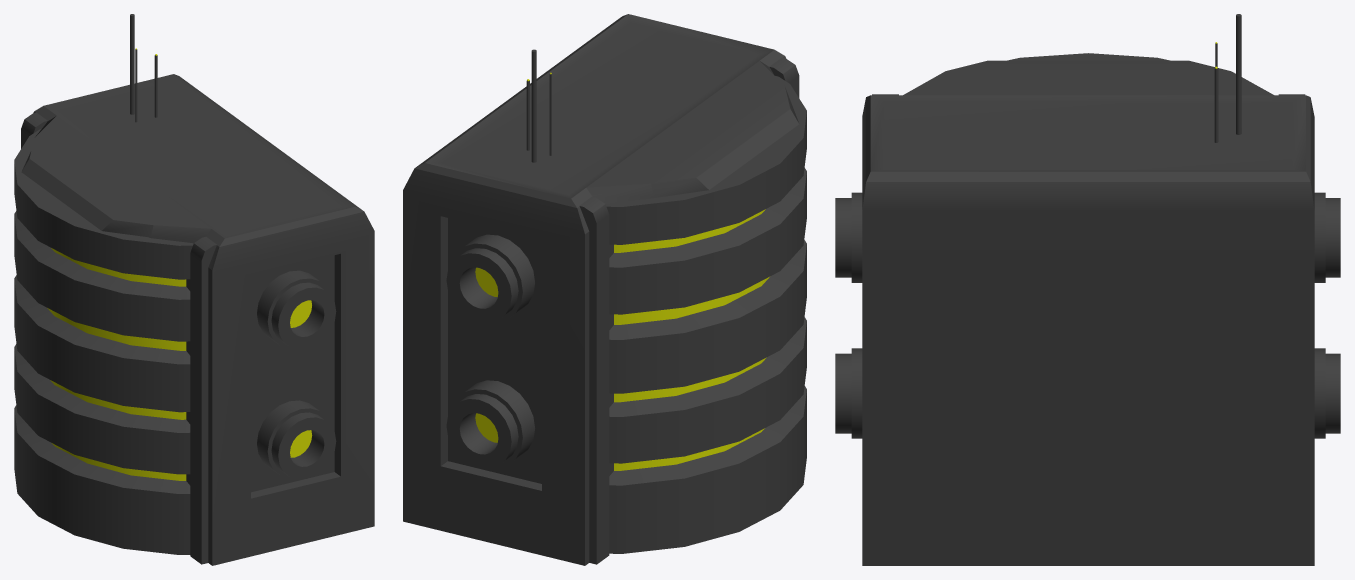
Rendered from Battery.fbx.
The picture shows the model from 3 angles, left to right: view 1: azimuth 30°, elevation 25°; view 2: azimuth 150°, elevation 25°; view 3: azimuth 270°, elevation 25°; orthographic projection. The views are drawn at different scales.
Visible parts, largest first — view 1: pCube1, pCylinder1, pCube2, pPipe1, pPipe3, pPipe4, pPipe2, pCylinder2, pCube3; view 2: pCube1, pCylinder1, pCube3, pPipe3, pPipe1, pPipe2, pPipe4, pCylinder2, pCube2; view 3: pCube1, pPipe3, pPipe1, pPipe4, pPipe2, pCylinder1, pCylinder2.
Boxes of the visible parts, x1,y1,x2,y2 form: pCube1: (21,74,374,565); pCylinder1: (14,129,193,554); pCube2: (190,236,216,564); pPipe1: (271,282,336,349); pPipe3: (271,412,336,479); pPipe4: (257,400,331,478); pPipe2: (257,270,331,348); pCylinder2: (130,14,134,114); pCube3: (21,112,47,148); pCube1: (403,14,799,565); pCylinder1: (605,76,806,553); pCube3: (579,197,609,564); pPipe3: (446,394,518,468); pPipe1: (446,248,518,322); pPipe2: (450,234,534,322); pPipe4: (450,380,535,468); pCylinder2: (531,49,536,162); pCube2: (769,57,799,97); pCube1: (862,60,1314,565); pPipe3: (835,353,1340,433); pPipe1: (835,198,1340,277); pPipe4: (851,348,1325,438); pPipe2: (851,192,1325,282); pCylinder1: (1007,53,1169,60); pCylinder2: (1236,14,1241,134).
Size of the model in its own units: 10.26 by 16.9 by 15.45.
